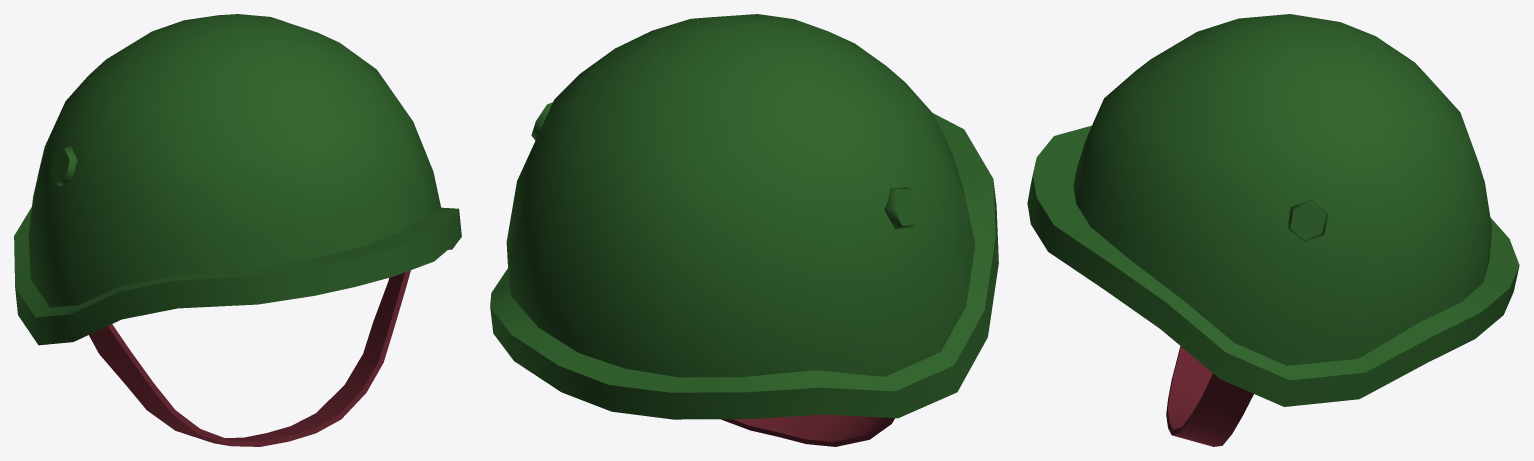
File: Helmet_02.fbx
3 views of the same model, side by side, from view 1: azimuth 30°, elevation 25°; view 2: azimuth 150°, elevation 25°; view 3: azimuth 270°, elevation 25° (orthographic). The views are drawn at different scales.
Parts seen in each view (by area): view 1: Helmet_02.c, Helmet_02; view 2: Helmet_02.c, Helmet_02; view 3: Helmet_02.c, Helmet_02.
Boxes of the visible parts, box(x1,y1,x2,y2) form: Helmet_02.c: box(14, 14, 461, 345); Helmet_02: box(89, 270, 410, 446); Helmet_02.c: box(490, 14, 998, 419); Helmet_02: box(721, 414, 894, 446); Helmet_02.c: box(1027, 14, 1519, 406); Helmet_02: box(1166, 346, 1253, 446).
Bounding box in the file's own units: 0.8093 × 0.7582 × 0.8612.
